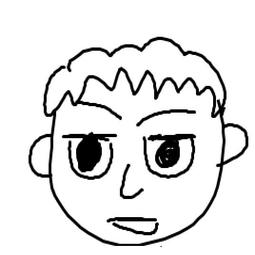ear: (218, 121, 253, 170), (26, 130, 54, 180)
eye: (142, 130, 198, 186), (62, 131, 115, 183)
eyebrow: (133, 107, 200, 130)
frowning_eyebrow: (80, 97, 125, 123)
nose: (116, 163, 145, 199)
open_mouth: (107, 210, 163, 239)
